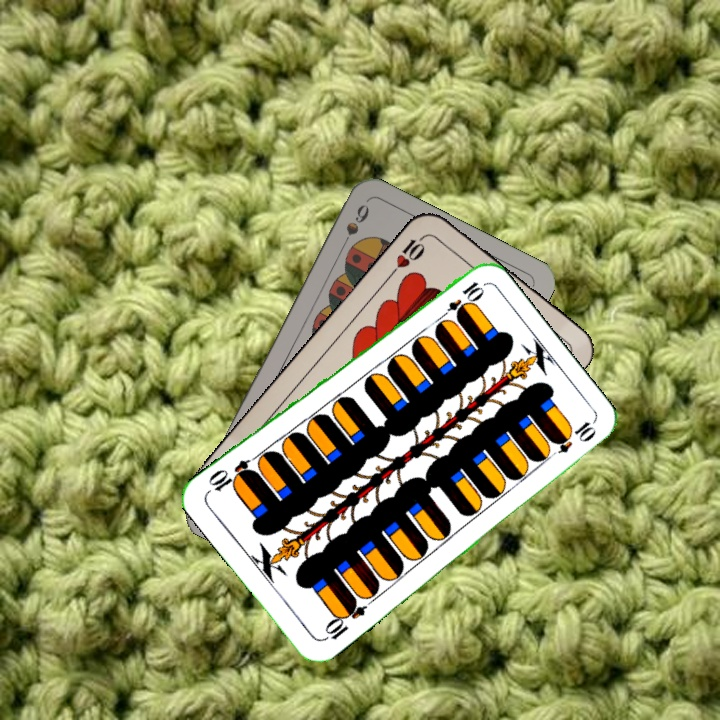E10: (318, 595, 368, 644), (435, 277, 486, 324)
H10: (386, 230, 430, 278)
S9: (336, 200, 372, 254)
